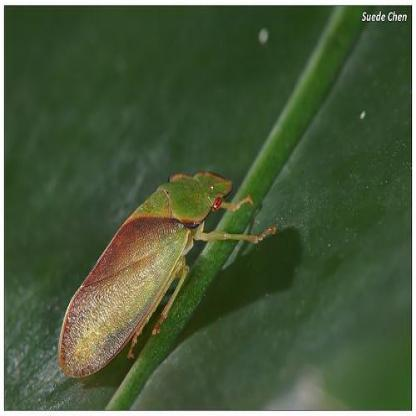grasshopper: (53, 163, 274, 387)
